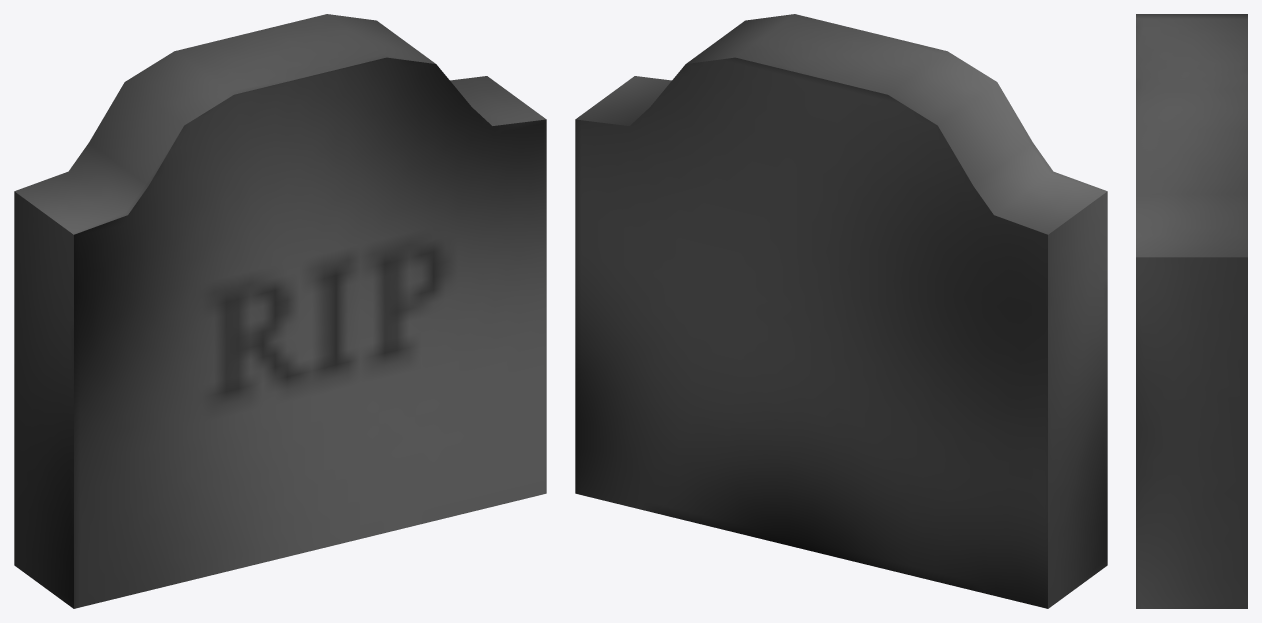
The model's file is Tumulo_2.glb.
The picture shows the model from 3 angles, left to right: view 1: azimuth 30°, elevation 25°; view 2: azimuth 150°, elevation 25°; view 3: azimuth 270°, elevation 25°; orthographic projection. The views are drawn at different scales.
Visible parts, largest first — view 1: Tumulo.2; view 2: Tumulo.2; view 3: Tumulo.2.
Part boxes in pixels (box(x1,y1,x2,y2)): Tumulo.2: box(14, 14, 546, 608); Tumulo.2: box(575, 14, 1107, 608); Tumulo.2: box(1136, 14, 1247, 608).
Size of the model in its own units: 0.4835 by 0.4642 by 0.1054.
1 material, 1 textured.
